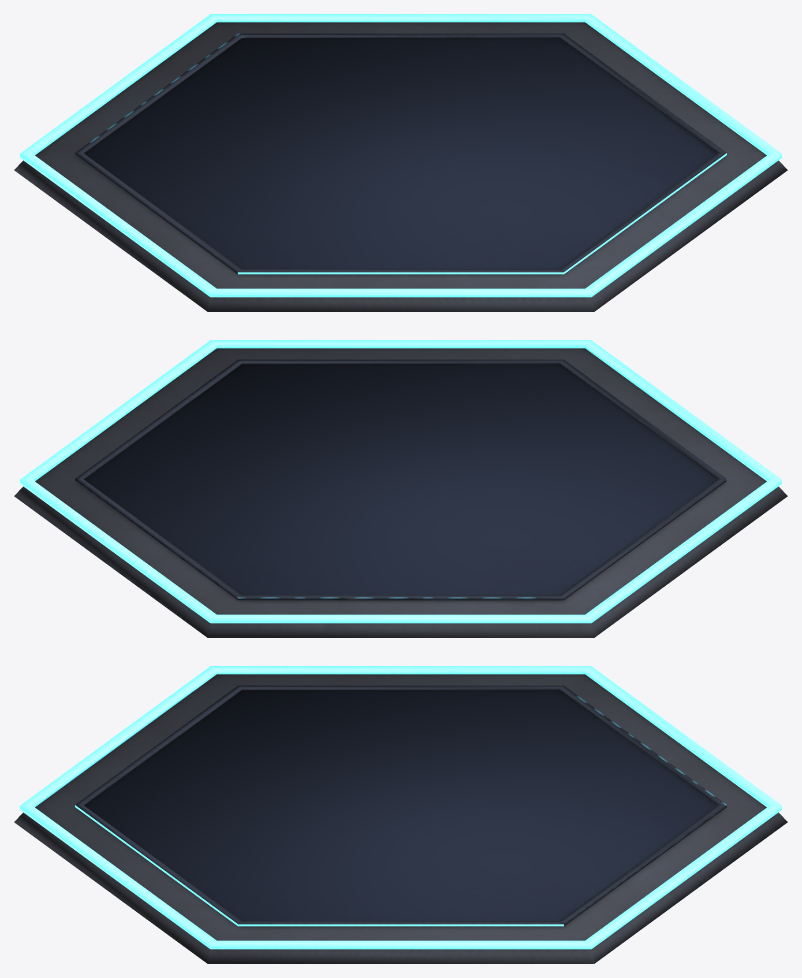
Rendered from SM_HexTile_Home_Space.glb.
3 views of the same model, one above another, from view 1: azimuth 30°, elevation 25°; view 2: azimuth 150°, elevation 25°; view 3: azimuth 270°, elevation 25° (orthographic).
Parts seen in each view (by area): view 1: HexTile_Home; view 2: HexTile_Home; view 3: HexTile_Home.
Part boxes in pixels (box(x1,y1,x2,y2)): HexTile_Home: box(14, 14, 787, 311); HexTile_Home: box(14, 340, 787, 637); HexTile_Home: box(14, 666, 787, 963).
Size of the model in its own units: 0.95 by 0.027 by 1.1.
1 material, 1 textured.
